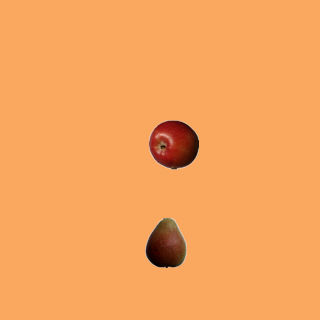Apple Braeburn: (148, 119, 198, 169)
Pear Forelle: (140, 217, 190, 267)
